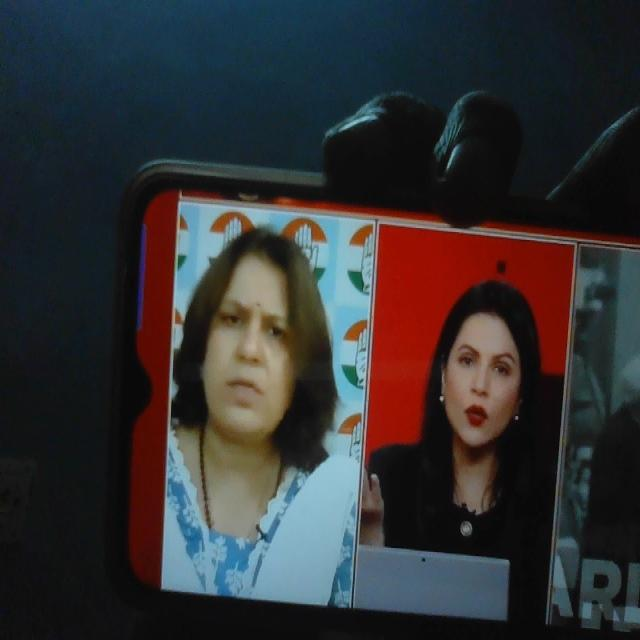fake: (430, 251, 545, 468), (197, 226, 309, 438)
